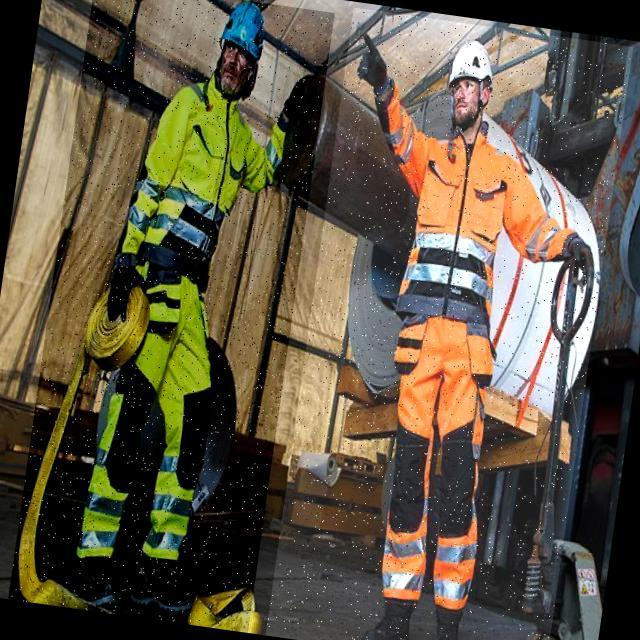Helmet: (218, 0, 273, 65), (447, 40, 503, 89)
Human: (266, 7, 633, 640), (8, 0, 335, 633)
Safety Boot: (129, 560, 203, 615), (61, 558, 125, 608), (361, 595, 419, 640), (429, 607, 467, 640)
Safety Vest: (346, 82, 590, 340), (111, 65, 296, 298)
